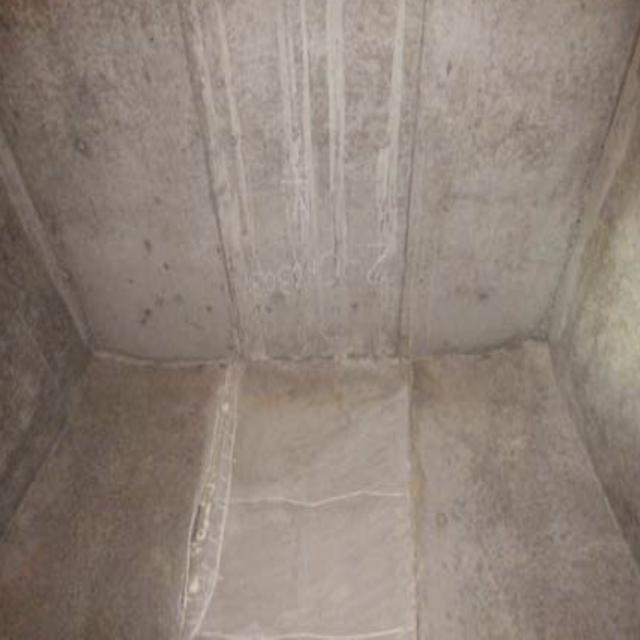freelime: (167, 361, 239, 640)
